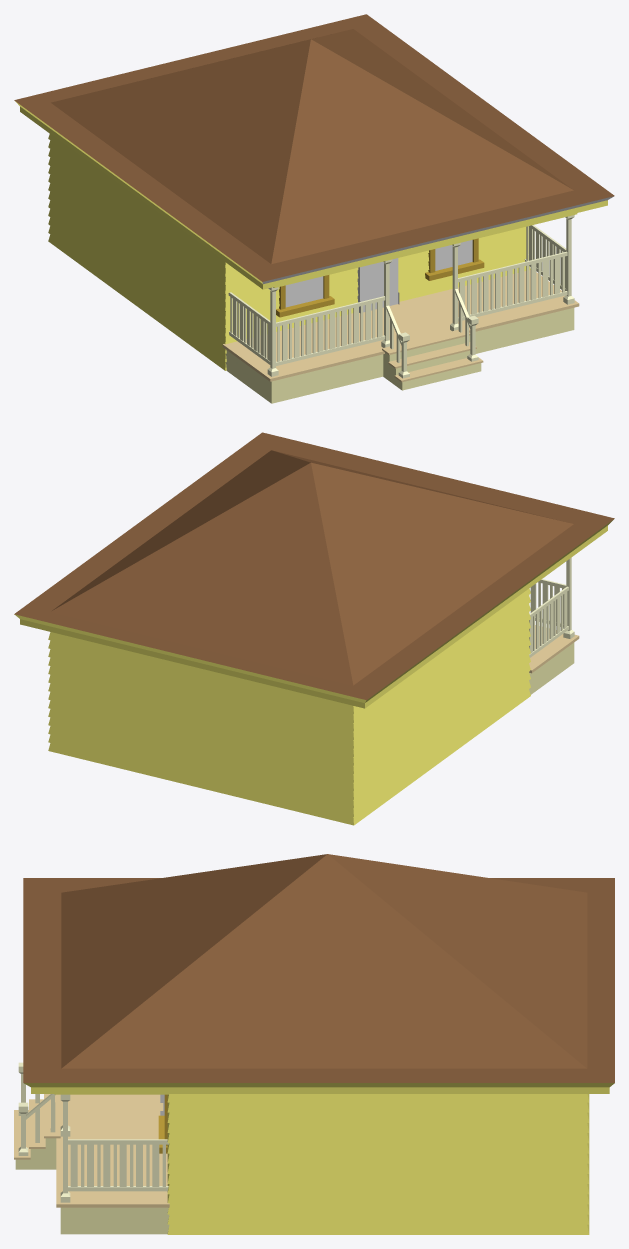
File: House 5.fbx
3 renders of one model, top to bottom at view 1: azimuth 30°, elevation 25°; view 2: azimuth 150°, elevation 25°; view 3: azimuth 270°, elevation 25°, orthographic. The views are drawn at different scales.
Parts seen in each view (by area): view 1: Cube.079, Cube.077, Cube.101, Cube.080, Cube.108, Cube.103, CTRL_Hole.014, CTRL_Hole.015, Cube.110, Cube.111, CTRL_Hole.016, Cube.102 (+3 smaller); view 2: Cube.079, Cube.077, Cube.103, Cube.080, Cube.101; view 3: Cube.079, Cube.077, Cube.103, Cube.108, Cube.102, Cube.080, Cube.109, Cube.111.
Boxes of the visible parts, left/top/right/bottom form: Cube.079: left=14, top=14, right=614, bottom=370; Cube.077: left=222, top=270, right=579, bottom=403; Cube.101: left=277, top=256, right=564, bottom=361; Cube.080: left=267, top=215, right=574, bottom=376; Cube.108: left=382, top=328, right=483, bottom=390; Cube.103: left=230, top=226, right=566, bottom=360; CTRL_Hole.014: left=357, top=258, right=398, bottom=312; CTRL_Hole.015: left=285, top=276, right=323, bottom=307; Cube.110: left=425, top=238, right=484, bottom=280; Cube.111: left=386, top=289, right=470, bottom=362; CTRL_Hole.016: left=435, top=240, right=472, bottom=270; Cube.102: left=228, top=225, right=566, bottom=364; Cube.079: left=14, top=432, right=614, bottom=825; Cube.077: left=529, top=625, right=579, bottom=694; Cube.103: left=529, top=592, right=567, bottom=653; Cube.080: left=535, top=557, right=574, bottom=638; Cube.101: left=529, top=582, right=563, bottom=623; Cube.079: left=23, top=854, right=614, bottom=1234; Cube.077: left=56, top=1094, right=169, bottom=1234; Cube.103: left=70, top=1144, right=165, bottom=1186; Cube.108: left=14, top=1094, right=60, bottom=1169; Cube.102: left=68, top=1139, right=168, bottom=1191; Cube.080: left=60, top=1094, right=70, bottom=1202; Cube.109: left=18, top=1062, right=28, bottom=1155; Cube.111: left=26, top=1094, right=55, bottom=1142.
Size of the model in its own units: 546 by 364 by 677.
